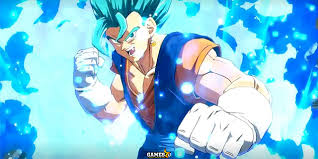Vegito: (92, 1, 169, 64)
